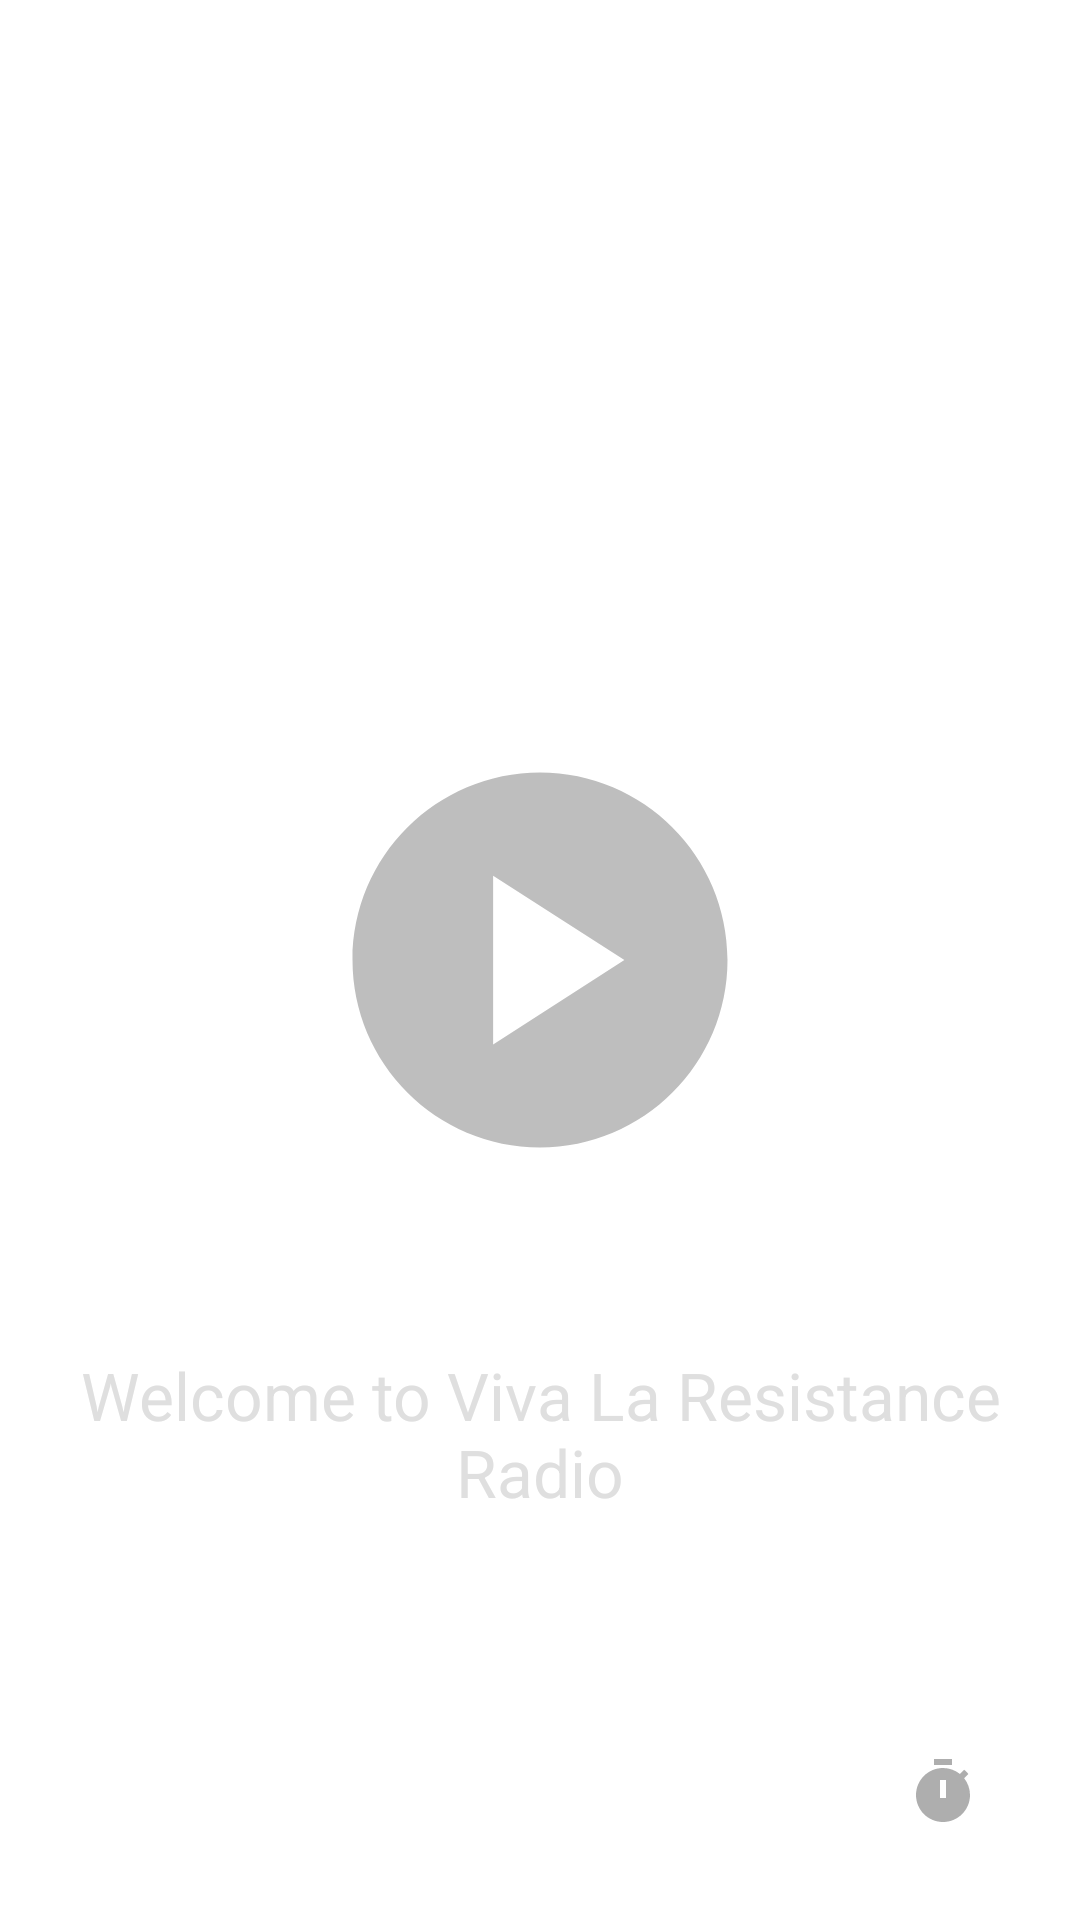

Named icons in this screenshot (1080 x 1920) and their bounding boxes, bbox(x1, y1, x2, y2):
timer: bbox(916, 1759, 970, 1822)
